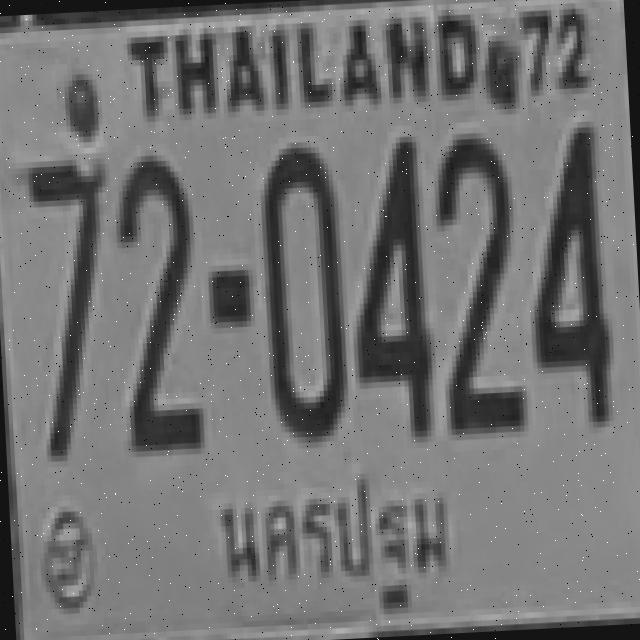0: (256, 144, 348, 436)
2: (111, 151, 202, 432), (113, 166, 201, 452), (428, 128, 519, 404)
4: (520, 122, 610, 424), (343, 134, 432, 437)
7: (24, 158, 116, 451)
NakhonPathom: (209, 460, 460, 630)
